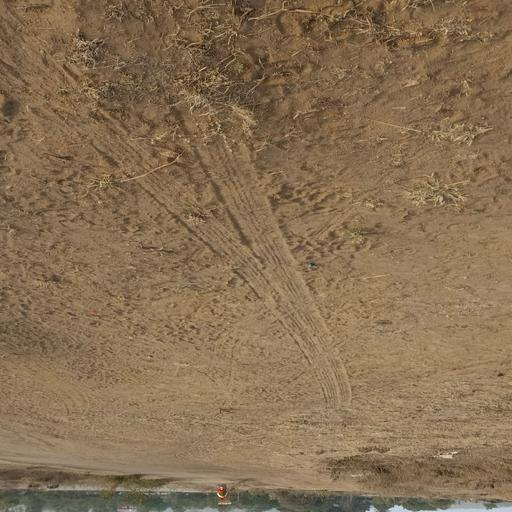vehicle_track: (0, 0, 352, 424)
